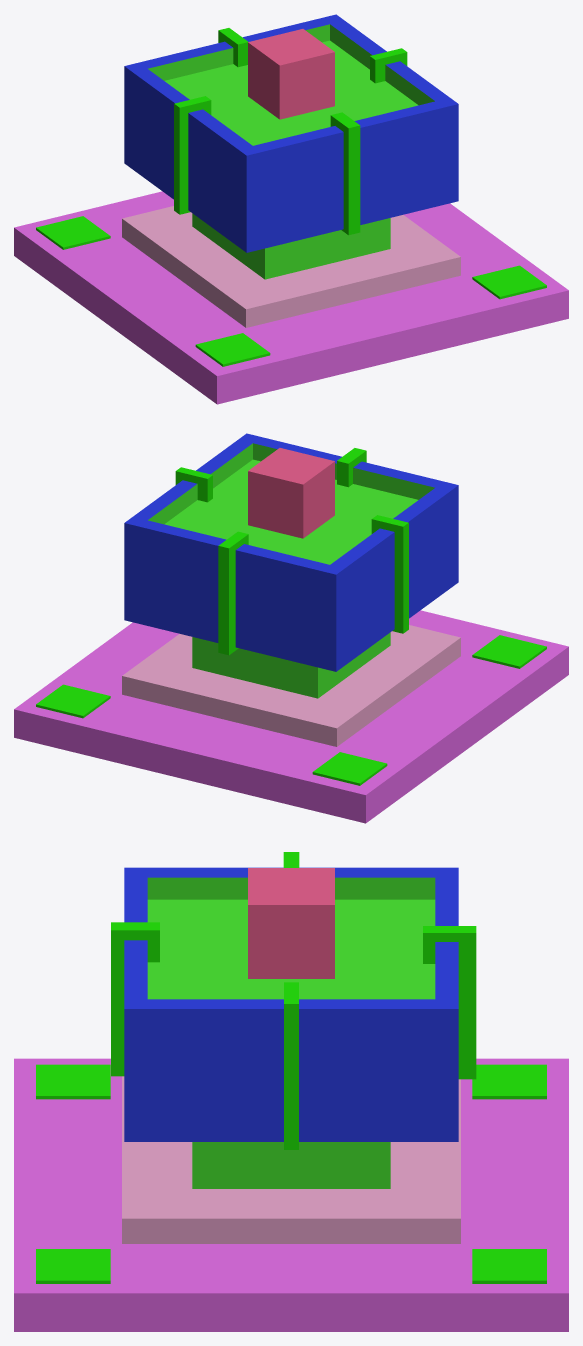
Rendered from rapidFire_Lv2.fbx.
3 views of the same model, one above another, from view 1: azimuth 30°, elevation 25°; view 2: azimuth 150°, elevation 25°; view 3: azimuth 270°, elevation 25° (orthographic). The views are drawn at different scales.
Visible parts, largest first — view 1: Cube.001; view 2: Cube.001; view 3: Cube.001.
Part boxes in pixels (left/top/right/bottom): Cube.001: left=14, top=14, right=568, bottom=404; Cube.001: left=14, top=433, right=568, bottom=823; Cube.001: left=14, top=852, right=568, bottom=1331.
Size of the model in its own units: 200 by 130 by 200.
